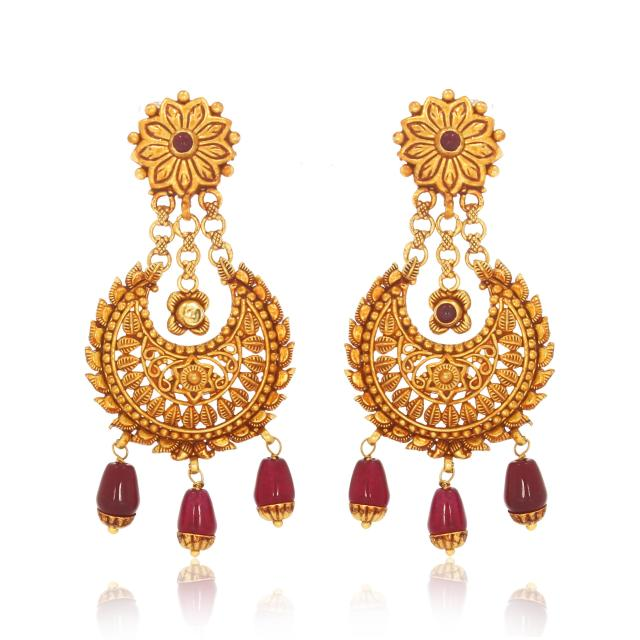missing gem: (182, 305, 201, 324)
